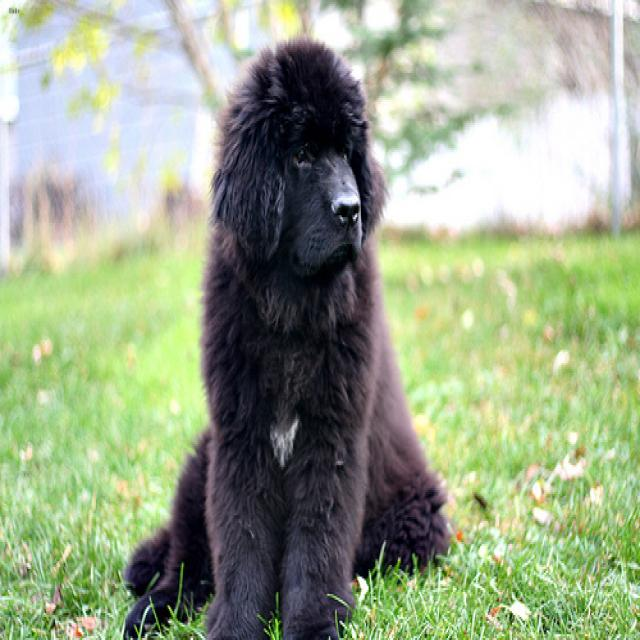dog-newfoundland: (110, 27, 458, 636)
